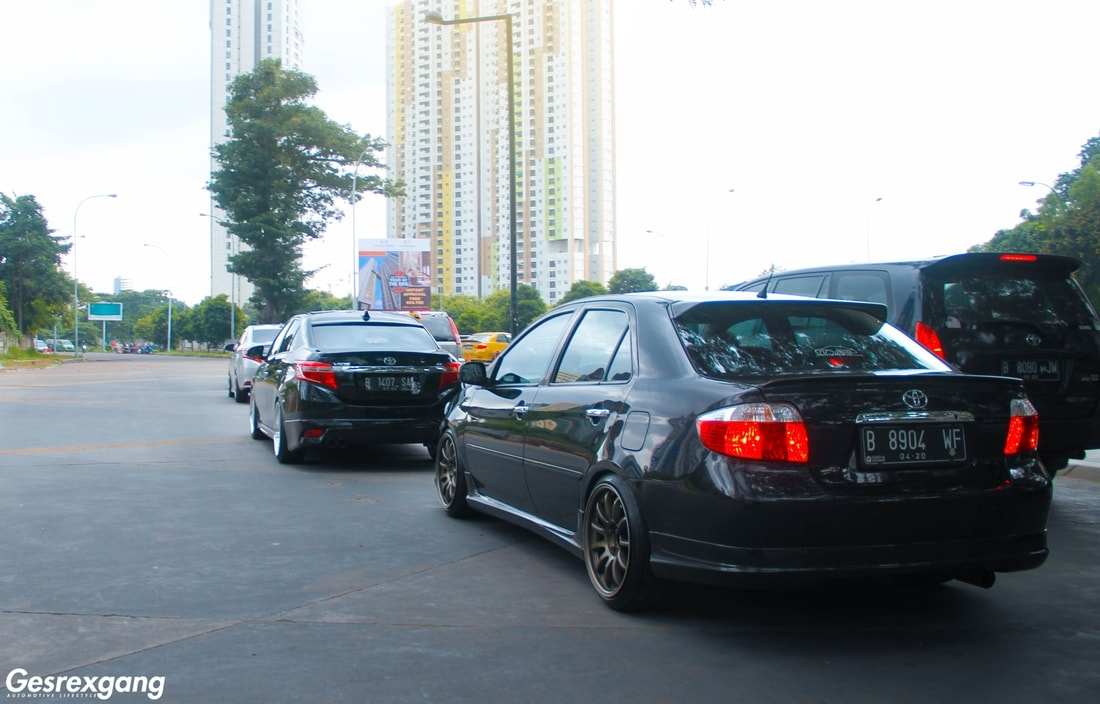plate: (863, 427, 968, 464), (1003, 357, 1062, 381), (365, 376, 420, 394)
